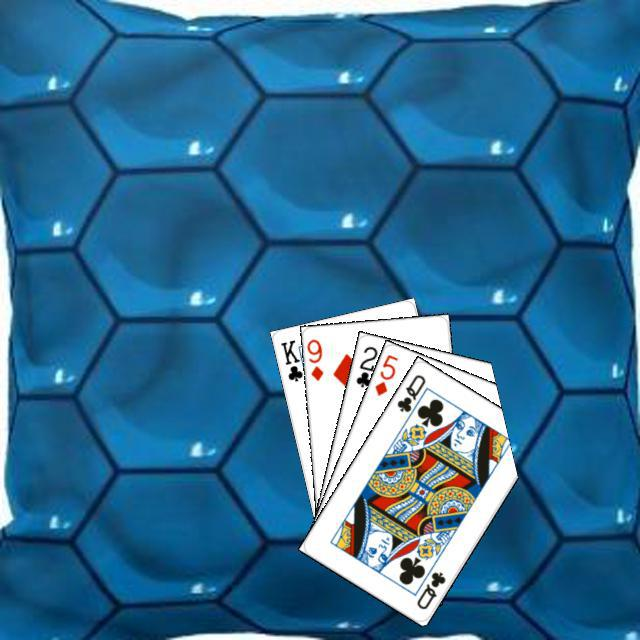2c: (351, 341, 379, 389)
5d: (370, 350, 400, 398)
9d: (303, 334, 325, 383)
Kc: (275, 335, 310, 385)
Qc: (392, 369, 431, 422), (412, 567, 447, 611)
